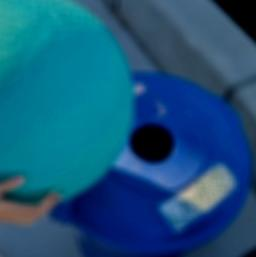algae: (0, 0, 130, 210)
